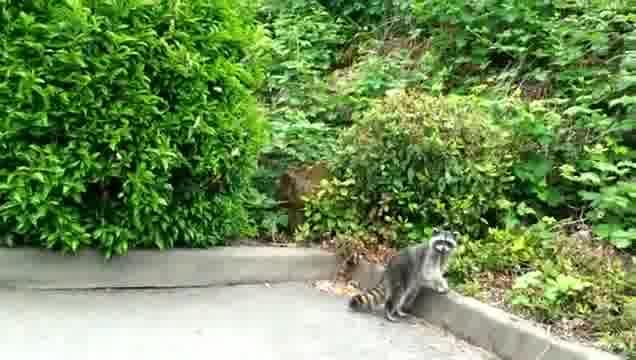raccoon: (346, 227, 462, 325)
